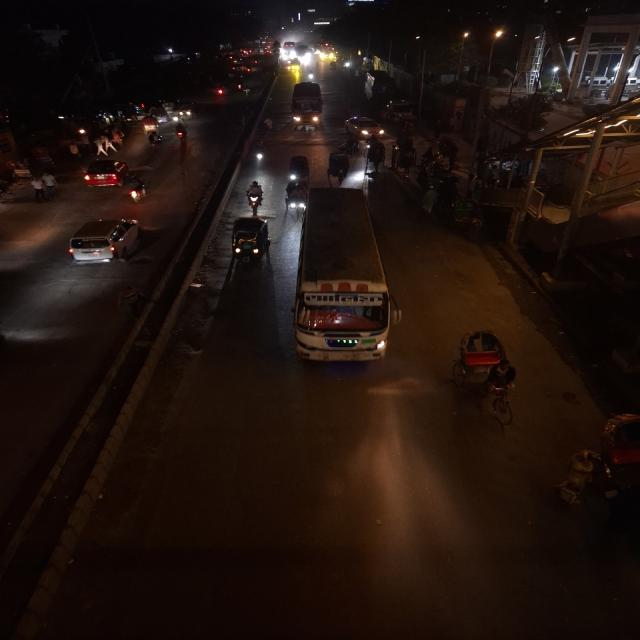bus: (292, 187, 400, 365), (290, 86, 324, 127)
car: (64, 215, 142, 269), (79, 157, 131, 190), (343, 114, 386, 140)
cng: (226, 215, 273, 264), (166, 98, 196, 122)
motorcycle: (124, 176, 152, 206), (243, 178, 266, 214), (248, 138, 270, 170), (362, 152, 380, 184), (171, 120, 190, 144), (144, 130, 164, 150), (305, 70, 316, 81)
pedestrian: (28, 173, 54, 201)
rickshaw: (449, 327, 522, 427), (591, 408, 640, 486), (326, 151, 356, 187), (285, 153, 312, 192), (7, 159, 36, 183), (139, 113, 162, 137), (0, 176, 13, 206)
